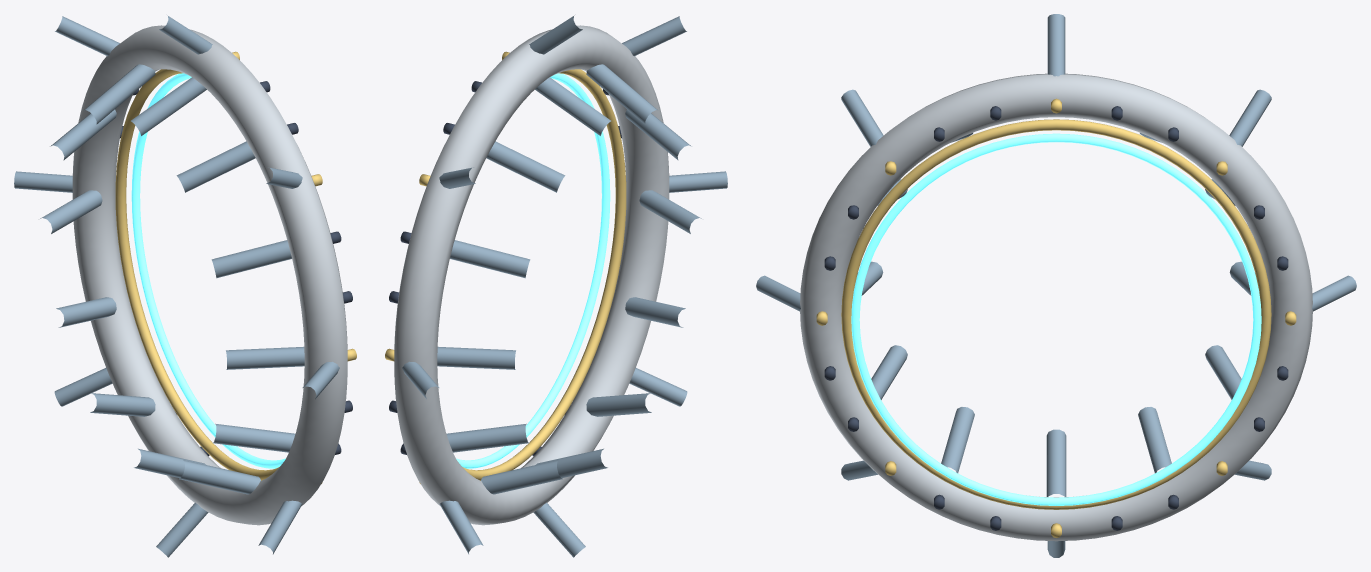
The model's file is 04_L85_DockingOuterGuideRing.glb.
The picture shows the model from 3 angles, left to right: view 1: azimuth 30°, elevation 25°; view 2: azimuth 150°, elevation 25°; view 3: azimuth 270°, elevation 25°; orthographic projection.
Parts seen in each view (by area): view 1: L85_DockingOuterGuideRing_Part_0000, L85_DockingOuterGuideRing_Part_0005, L85_DockingOuterGuideRing_Part_0006, L85_DockingOuterGuideRing_Part_0001, L85_DockingOuterGuideRing_Part_0002, L85_DockingOuterGuideRing_Part_0003; view 2: L85_DockingOuterGuideRing_Part_0000, L85_DockingOuterGuideRing_Part_0005, L85_DockingOuterGuideRing_Part_0006, L85_DockingOuterGuideRing_Part_0001, L85_DockingOuterGuideRing_Part_0002, L85_DockingOuterGuideRing_Part_0003; view 3: L85_DockingOuterGuideRing_Part_0000, L85_DockingOuterGuideRing_Part_0001, L85_DockingOuterGuideRing_Part_0002, L85_DockingOuterGuideRing_Part_0005, L85_DockingOuterGuideRing_Part_0006, L85_DockingOuterGuideRing_Part_0003.
Boxes of the visible parts, x1,y1,x2,y2 form: L85_DockingOuterGuideRing_Part_0000: (72, 25, 347, 525); L85_DockingOuterGuideRing_Part_0005: (14, 15, 339, 557); L85_DockingOuterGuideRing_Part_0006: (40, 64, 205, 477); L85_DockingOuterGuideRing_Part_0001: (115, 51, 356, 483); L85_DockingOuterGuideRing_Part_0002: (131, 73, 285, 468); L85_DockingOuterGuideRing_Part_0003: (120, 81, 352, 456); L85_DockingOuterGuideRing_Part_0000: (394, 25, 669, 525); L85_DockingOuterGuideRing_Part_0005: (402, 15, 727, 557); L85_DockingOuterGuideRing_Part_0006: (437, 141, 607, 494); L85_DockingOuterGuideRing_Part_0001: (385, 51, 626, 483); L85_DockingOuterGuideRing_Part_0002: (456, 73, 610, 468); L85_DockingOuterGuideRing_Part_0003: (389, 89, 621, 456); L85_DockingOuterGuideRing_Part_0000: (800, 73, 1312, 541); L85_DockingOuterGuideRing_Part_0001: (816, 98, 1296, 537); L85_DockingOuterGuideRing_Part_0002: (851, 133, 1261, 505); L85_DockingOuterGuideRing_Part_0005: (756, 14, 1356, 557); L85_DockingOuterGuideRing_Part_0006: (1046, 133, 1255, 496); L85_DockingOuterGuideRing_Part_0003: (824, 106, 1288, 530).
Size of the model in its own units: 1.01 by 4.84 by 4.85.
